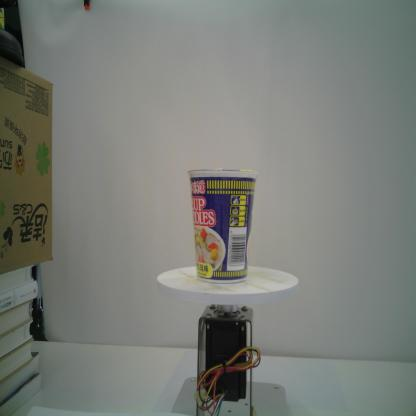Instant Noodles: (186, 166, 260, 285)
